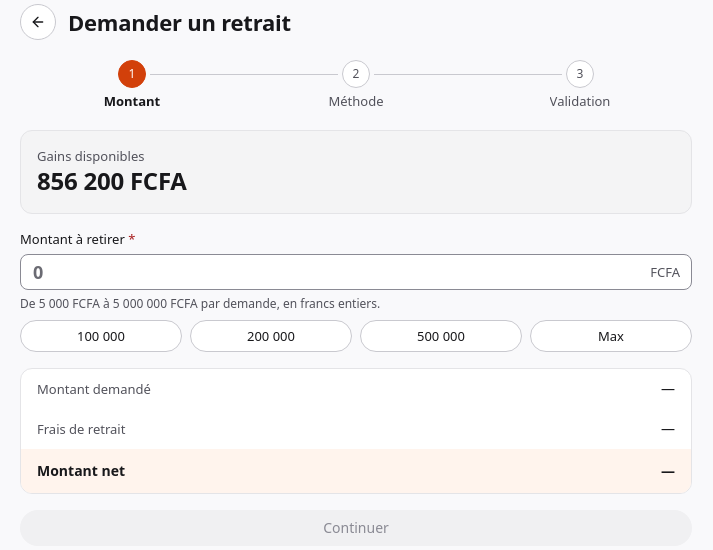
Scenario: asking for a withdrawal › says the fee could not be computed, instead of guessing it
The width and height of the screenshot is (713, 550).
Type "50000" into the field labelled "Montant à retirer *" at coordinates (356, 272), box [20,254,692,290]
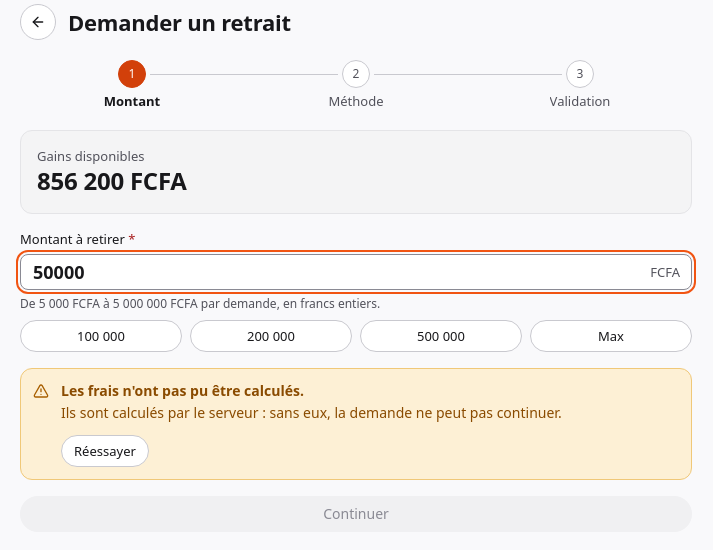
Expected: the button "Continuer" is disabled, [20,496,692,532]
Result: the text "Les frais n'ont pas pu être calculés." is shown at [61,381,304,400]
